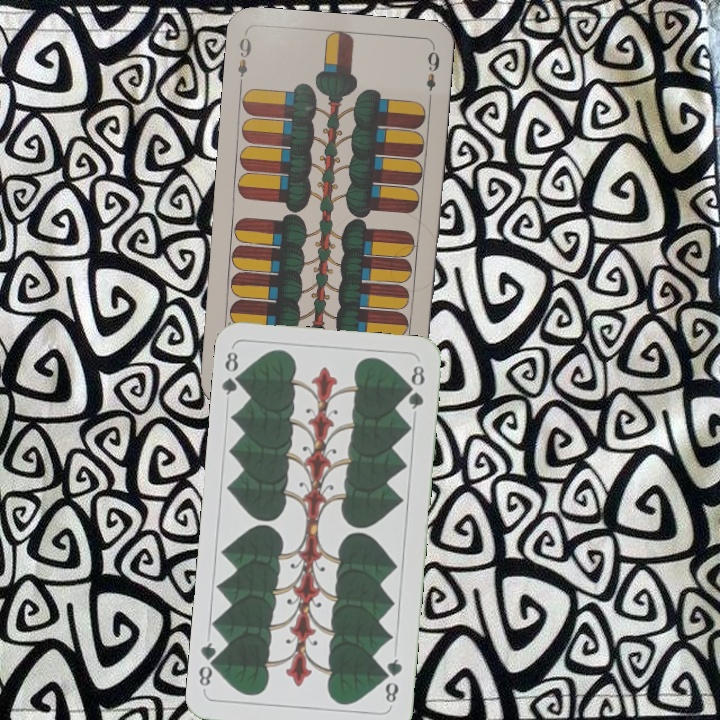E9: (233, 34, 254, 90)
G8: (218, 347, 246, 398), (380, 655, 405, 709)
